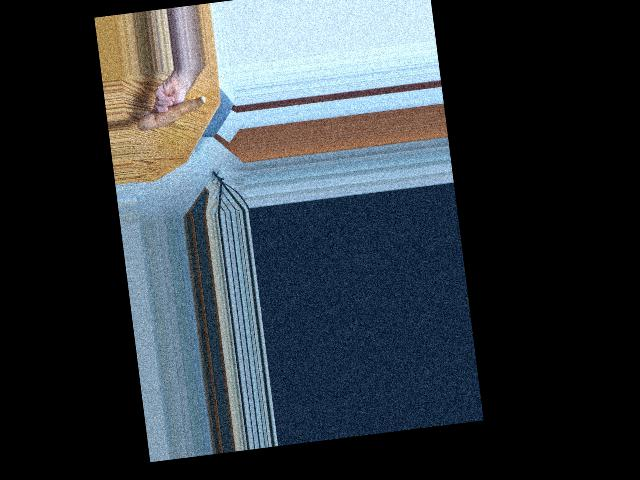sweet_potato: (137, 95, 211, 135)
